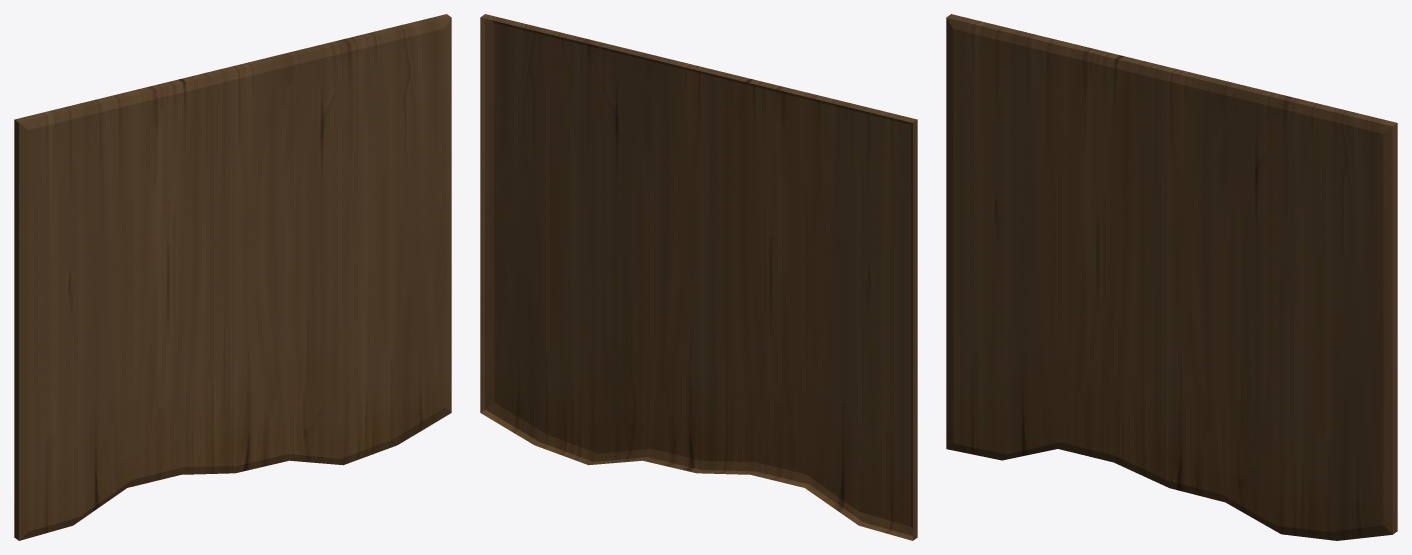
Rendered from Wall_PlywoodHalf1.fbx.
3 views of the same model, side by side, from view 1: azimuth 30°, elevation 25°; view 2: azimuth 150°, elevation 25°; view 3: azimuth 330°, elevation 25° (orthographic). The views are drawn at different scales.
Parts seen in each view (by area): view 1: Plywood35; view 2: Plywood35; view 3: Plywood35.
Part boxes in pixels (x1,y1,x2,y2): Plywood35: (14,14,451,540); Plywood35: (480,14,917,540); Plywood35: (946,14,1397,540).
Size of the model in its own units: 100 by 93.1 by 2.38.
